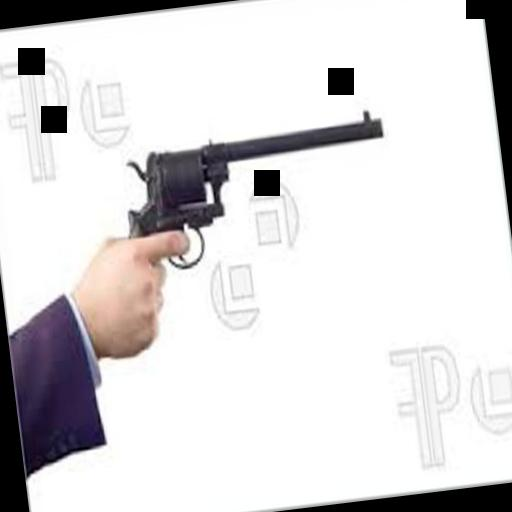Handgun: (116, 102, 404, 285)
